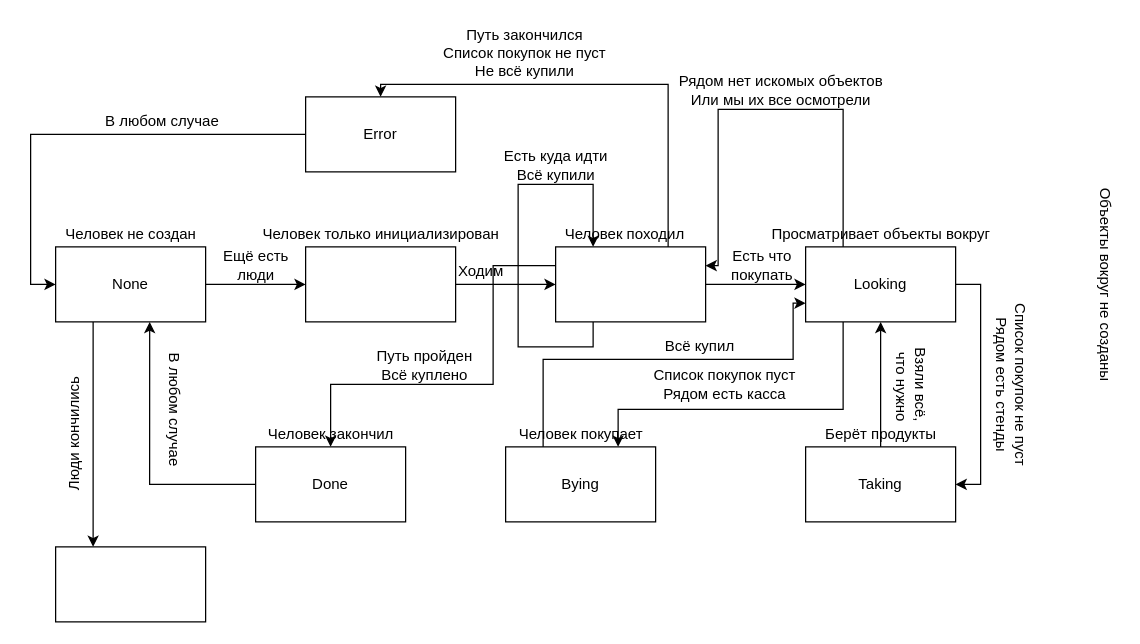
The diagram is 1140 pixels wide and 644 high, and some of its shapes have lost their labels. Here are the shapes that lost their labels. From the top down, the centre of each, then its label:
At point 380,284: "Initialized".
At point 630,284: "Walked".
At point 130,584: "End".
